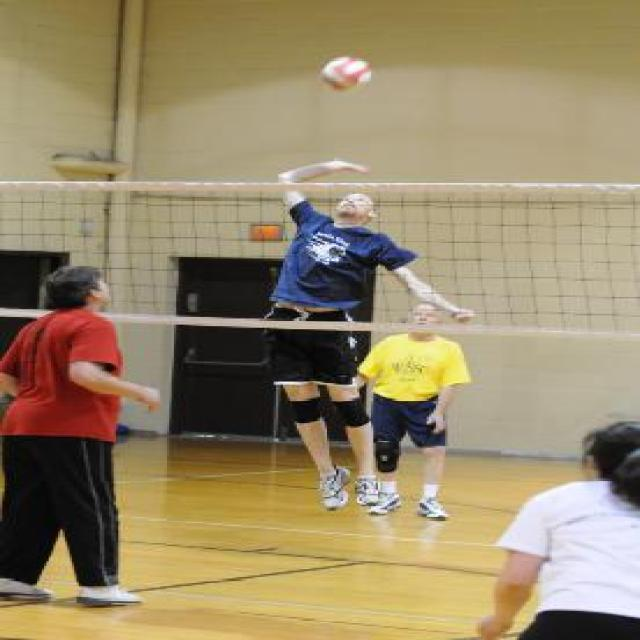volleyball: (320, 56, 372, 92)
